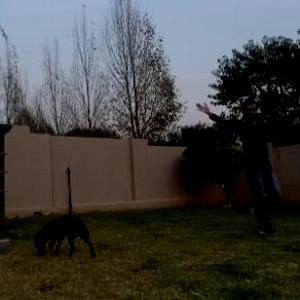takeoff: (180, 100, 298, 235)
